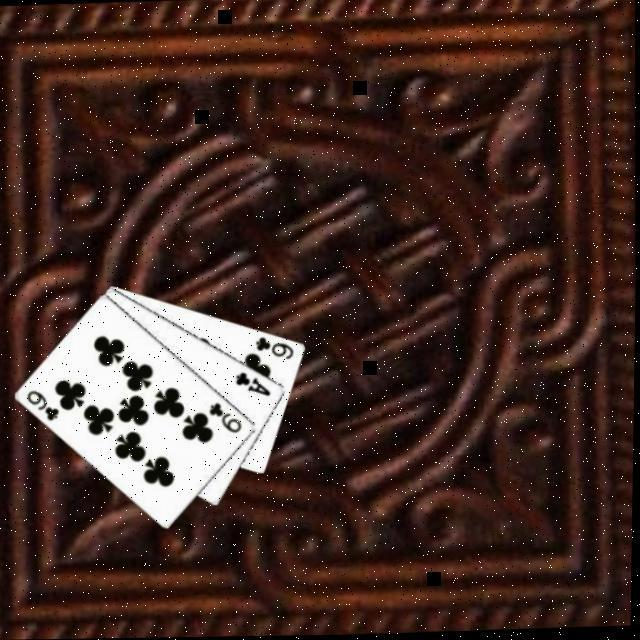6C: (255, 335, 299, 365)
9C: (208, 401, 247, 438), (26, 388, 65, 425)
AC: (235, 370, 276, 402)
